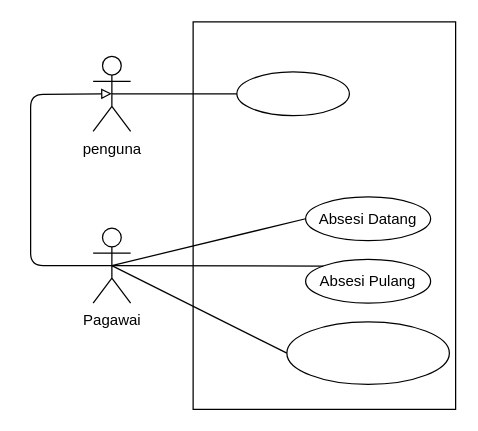
This 478x431 diagram has some shape labels left out. Here are the shapes that lost their labels. From the top down, the box of each, then its label:
(236, 71, 349, 116): Login
(286, 321, 449, 384): lihat riwayat Absesi
